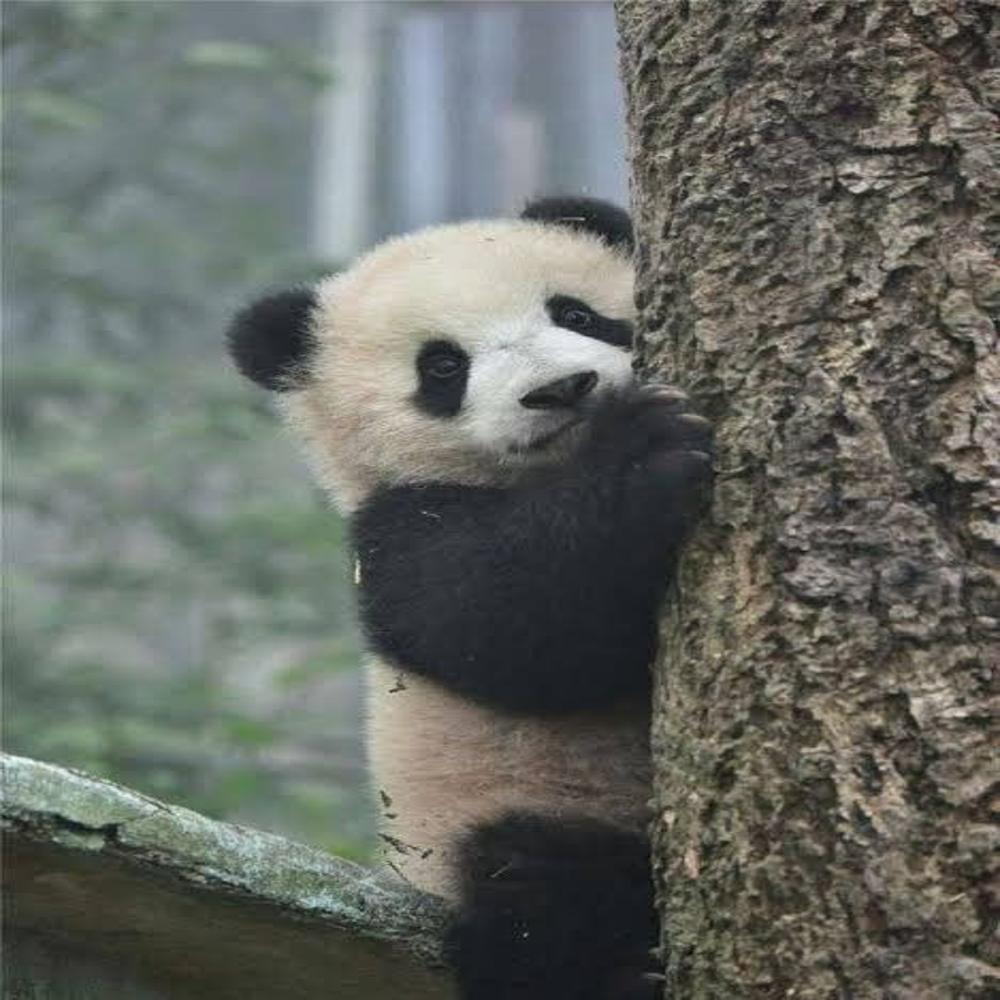panda: (218, 190, 729, 994)
